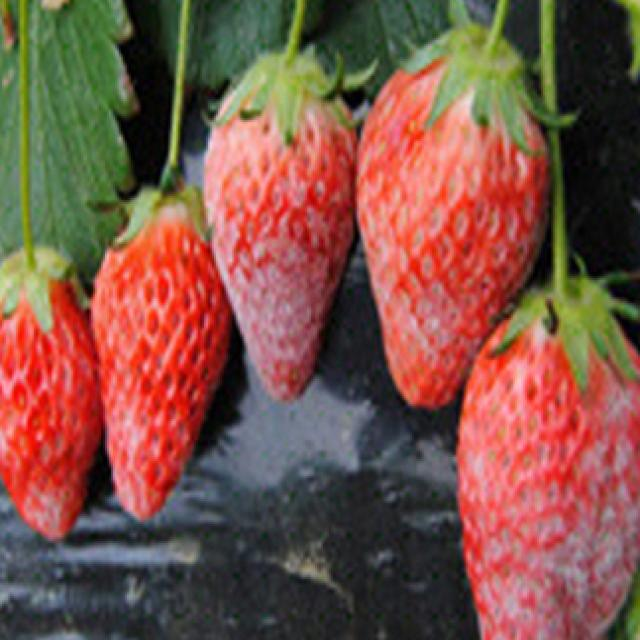Powdery Mildew Fruit: (358, 34, 552, 407), (456, 278, 640, 640), (197, 61, 360, 406)
